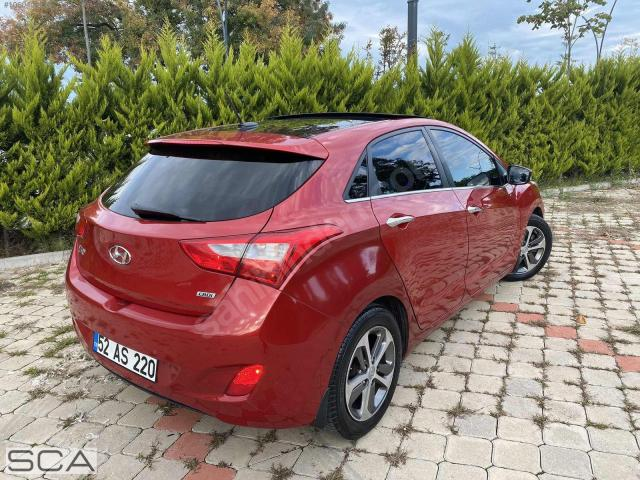plaka: (94, 332, 156, 382)
